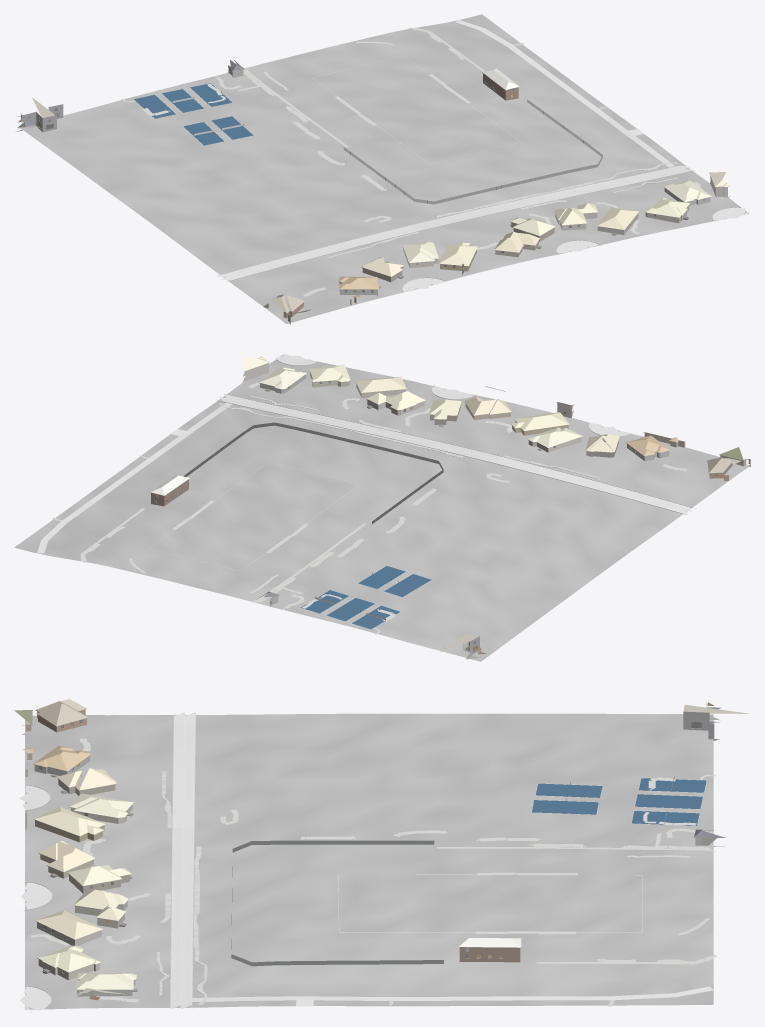
The picture shows the model from 3 angles, top to bottom: view 1: azimuth 30°, elevation 25°; view 2: azimuth 150°, elevation 25°; view 3: azimuth 270°, elevation 25°; orthographic projection. The views are drawn at different scales.
Visible parts, largest first — view 1: ground, roof, asphalt, walk, detail, concrete, chain, curb, wall, wall_stucco, wall_stone, wall_com (+1 smaller); view 2: ground, roof, asphalt, walk, detail, concrete, wall, curb, chain, wall_stucco, wall_stone; view 3: ground, roof, asphalt, walk, detail, concrete, wall, chain, wall_stucco, mark_w, wall_stone, curb (+2 smaller).
Boxes of the visible parts, left/top/right/bottom form: ground: left=20, top=14, right=748, bottom=324; roof: left=230, top=60, right=732, bottom=314; asphalt: left=216, top=165, right=694, bottom=280; walk: left=121, top=27, right=701, bottom=296; detail: left=21, top=67, right=729, bottom=316; concrete: left=402, top=20, right=749, bottom=291; chain: left=172, top=97, right=602, bottom=204; curb: left=217, top=163, right=740, bottom=291; wall: left=283, top=73, right=554, bottom=324; wall_stucco: left=227, top=65, right=710, bottom=294; wall_stone: left=555, top=176, right=730, bottom=235; wall_com: left=16, top=104, right=63, bottom=132; ground: left=14, top=354, right=749, bottom=661; roof: left=150, top=356, right=743, bottom=598; asphalt: left=220, top=394, right=692, bottom=514; walk: left=52, top=382, right=687, bottom=634; detail: left=150, top=359, right=750, bottom=657; concrete: left=37, top=354, right=630, bottom=553; wall: left=151, top=403, right=750, bottom=506; curb: left=217, top=359, right=692, bottom=514; chain: left=183, top=422, right=443, bottom=620; wall_stucco: left=260, top=372, right=669, bottom=607; wall_stone: left=242, top=363, right=424, bottom=415; ground: left=25, top=713, right=713, bottom=1009; roof: left=14, top=699, right=725, bottom=996; asphalt: left=170, top=712, right=195, bottom=1009; walk: left=30, top=738, right=716, bottom=1006; detail: left=22, top=703, right=720, bottom=1001; concrete: left=19, top=785, right=712, bottom=1011; wall: left=22, top=709, right=520, bottom=962; chain: left=231, top=778, right=673, bottom=966; wall_stucco: left=25, top=756, right=724, bottom=996; mark_w: left=171, top=713, right=706, bottom=1007; wall_stone: left=37, top=901, right=127, bottom=945; curb: left=21, top=713, right=205, bottom=1008.
Size of the model in its own units: 258 by 11.63 by 268.
